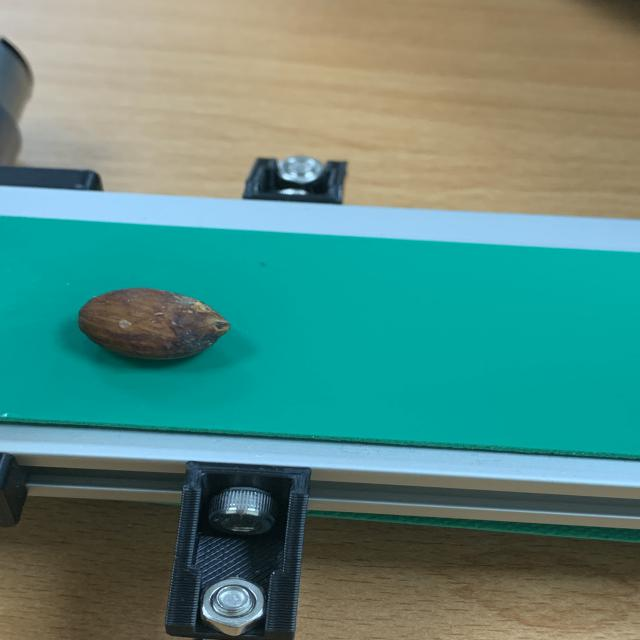Fine_cocoabeans: (42, 268, 294, 403)
